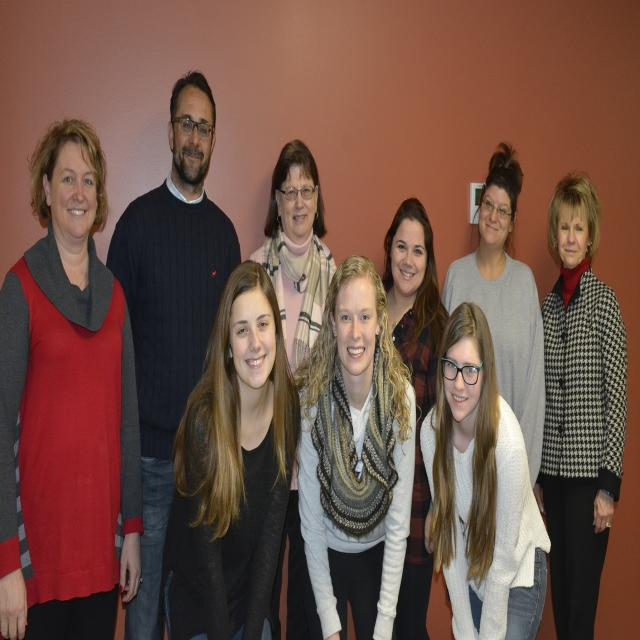body: (105, 70, 242, 640), (0, 110, 147, 640), (159, 257, 301, 640), (284, 250, 419, 640), (414, 296, 551, 640), (532, 169, 629, 640), (249, 139, 340, 640), (439, 141, 546, 495), (380, 194, 451, 640)
